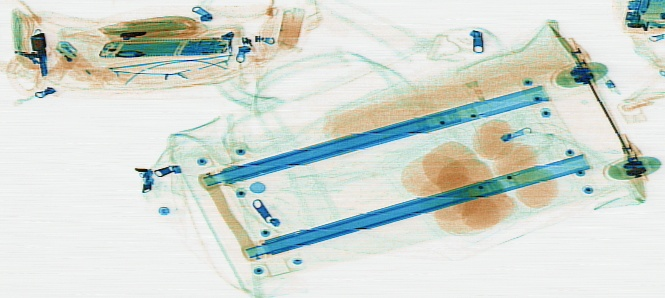lighter: (55, 38, 96, 81)
